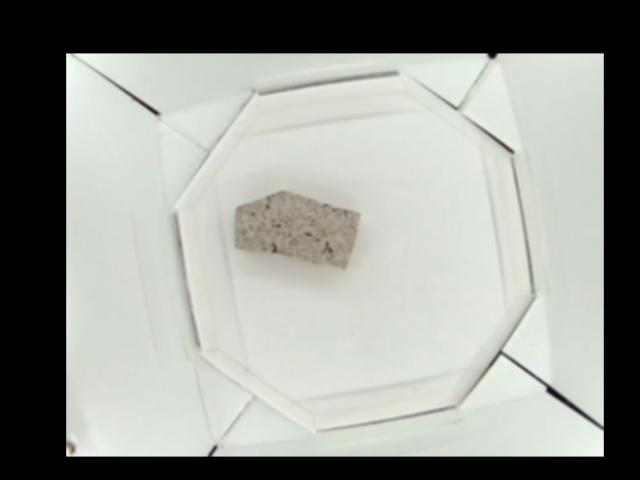China: (237, 189, 362, 270)
